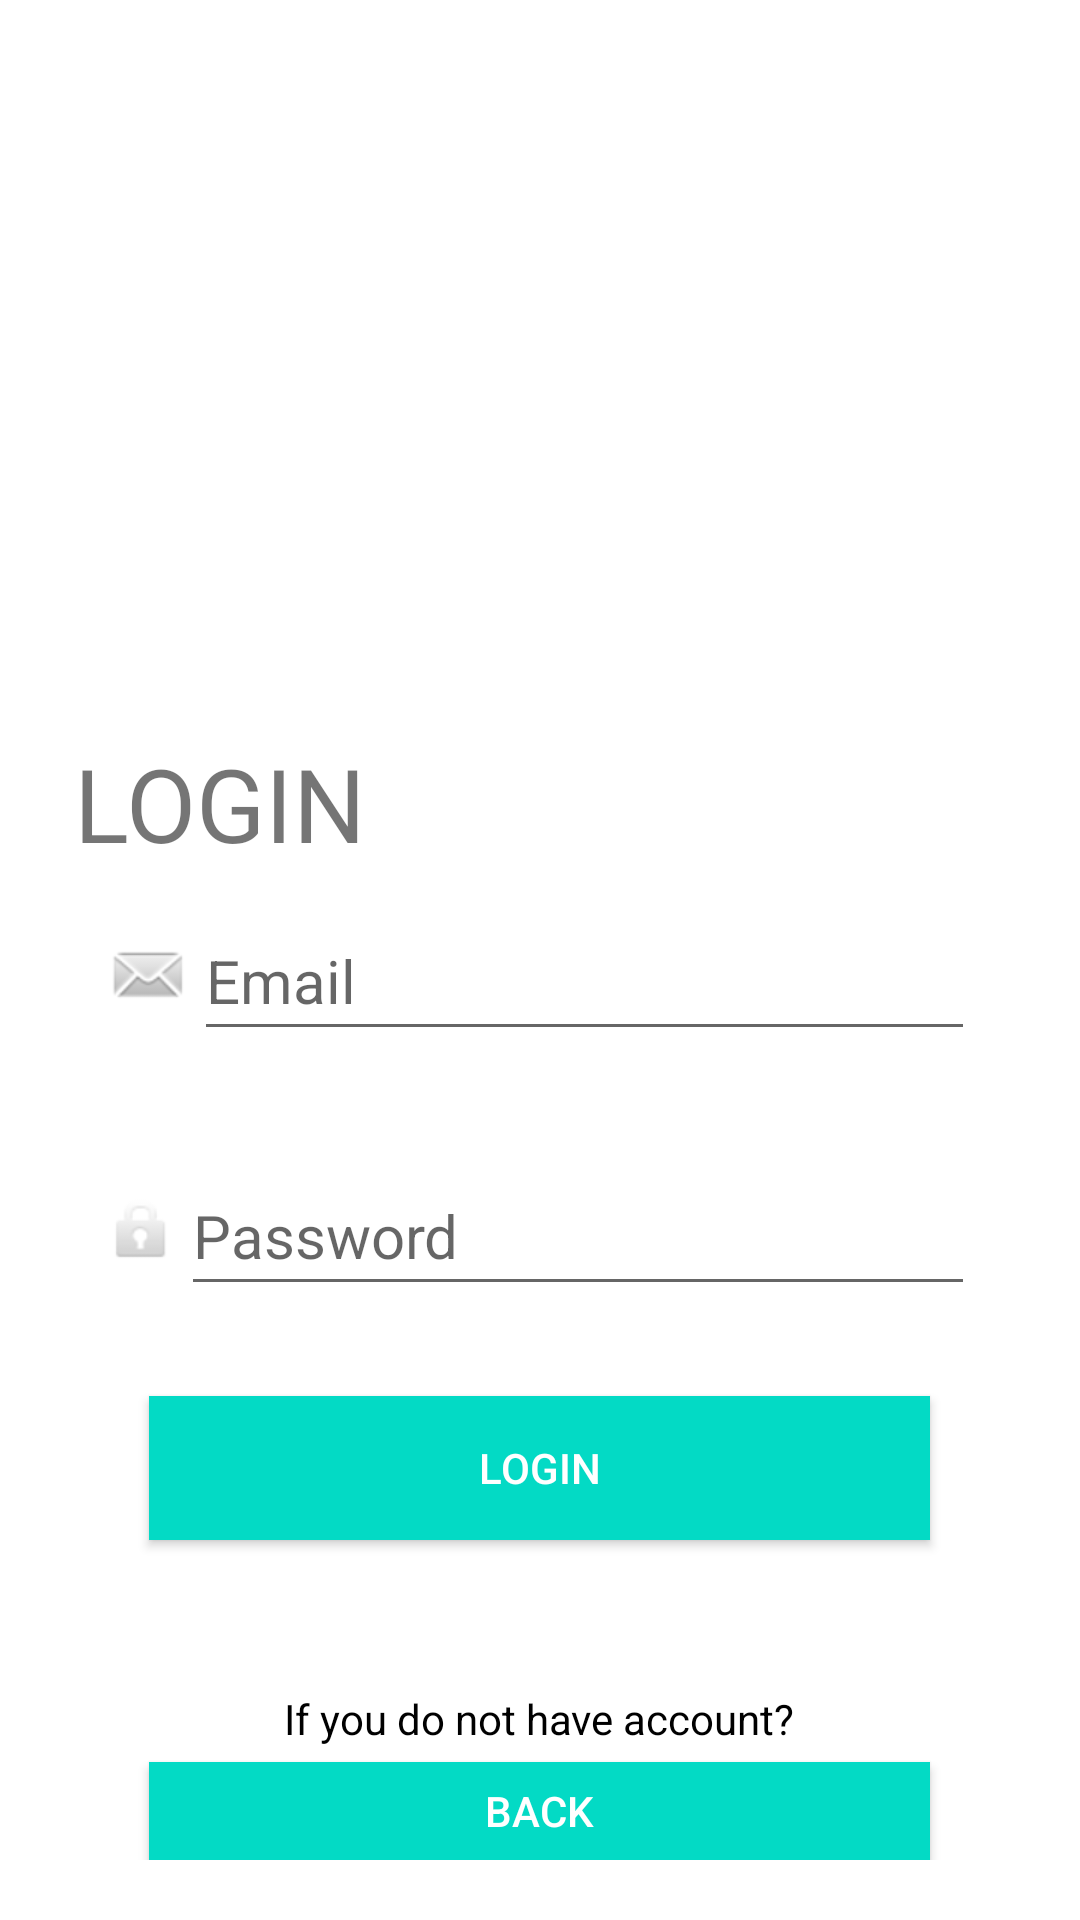

Locate icon controls on the screen. Image size 1080×1920, boxes as [x1=x1, y1=y1, x2=x2, y2=y2].
lock idle: [x1=116, y1=1224, x2=165, y2=1257]
